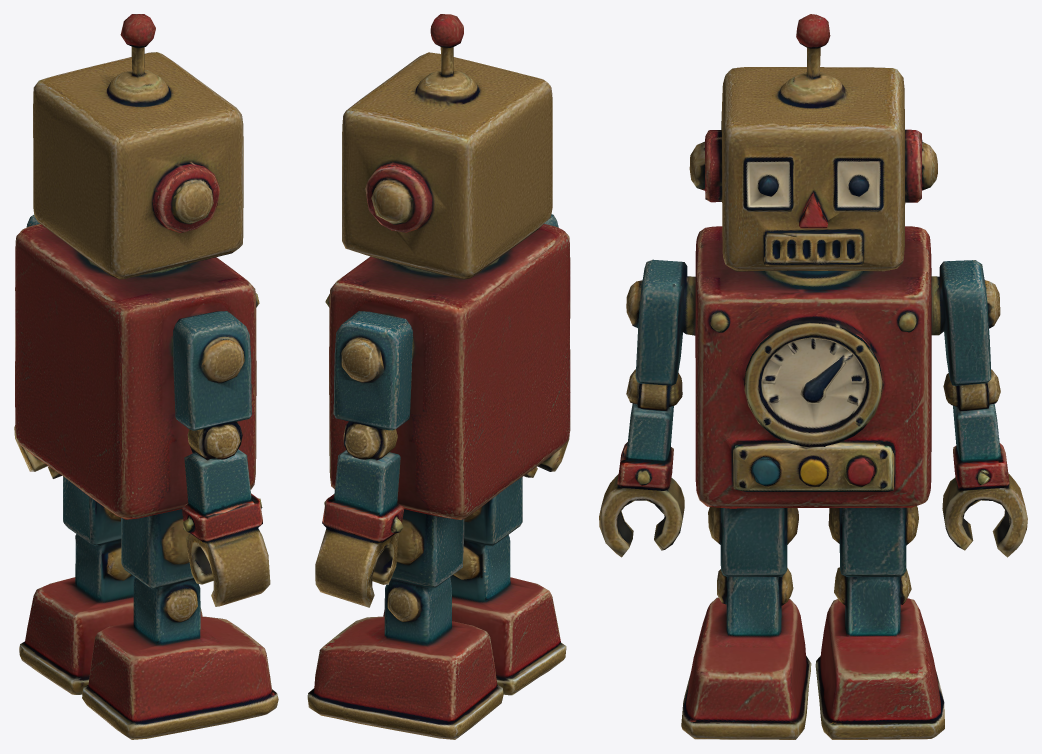
File: ToyRobot.fbx
3 views of the same model, side by side, from view 1: azimuth 30°, elevation 25°; view 2: azimuth 150°, elevation 25°; view 3: azimuth 270°, elevation 25° (orthographic). The views are drawn at different scales.
Visible parts, largest first — view 1: tripo_node_2319fbc9-946a-4b71-834a-5ea7b6f84d5f; view 2: tripo_node_2319fbc9-946a-4b71-834a-5ea7b6f84d5f; view 3: tripo_node_2319fbc9-946a-4b71-834a-5ea7b6f84d5f.
Boxes of the visible parts, left/top/right/bottom form: tripo_node_2319fbc9-946a-4b71-834a-5ea7b6f84d5f: left=14, top=14, right=278, bottom=739; tripo_node_2319fbc9-946a-4b71-834a-5ea7b6f84d5f: left=307, top=14, right=570, bottom=739; tripo_node_2319fbc9-946a-4b71-834a-5ea7b6f84d5f: left=599, top=14, right=1027, bottom=739.
Size of the model in its own units: 24.34 by 100 by 56.61.
1 material, 1 textured.
